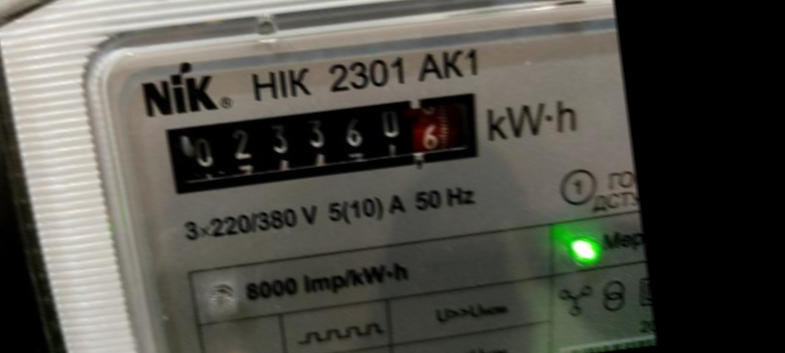0: (190, 132, 215, 167), (379, 105, 400, 137)
2: (228, 124, 255, 160)
3: (265, 119, 290, 154), (304, 114, 327, 147)
6: (340, 112, 364, 146), (416, 118, 441, 149)
screen: (145, 70, 497, 210)
